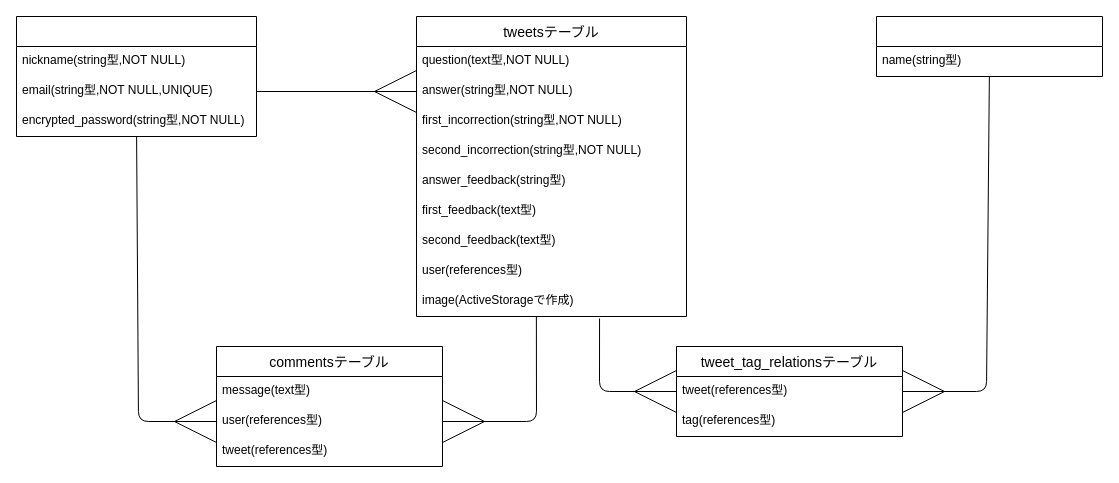
Image size: 1119x483. Some labels were removed from this diagram. The box of each missing label's shape, as (x1, y1, x2, y2) in pixels:
tagsテーブル: (876, 16, 1102, 76)
usersテーブル: (16, 16, 256, 136)
